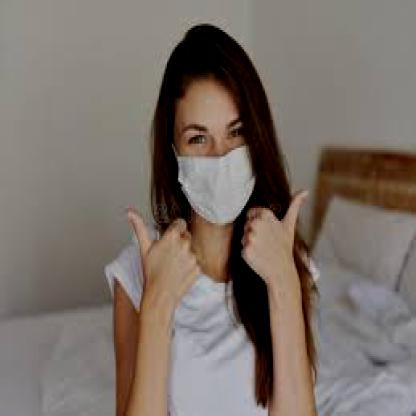Thumbs up: (118, 190, 205, 324), (240, 170, 310, 290)
